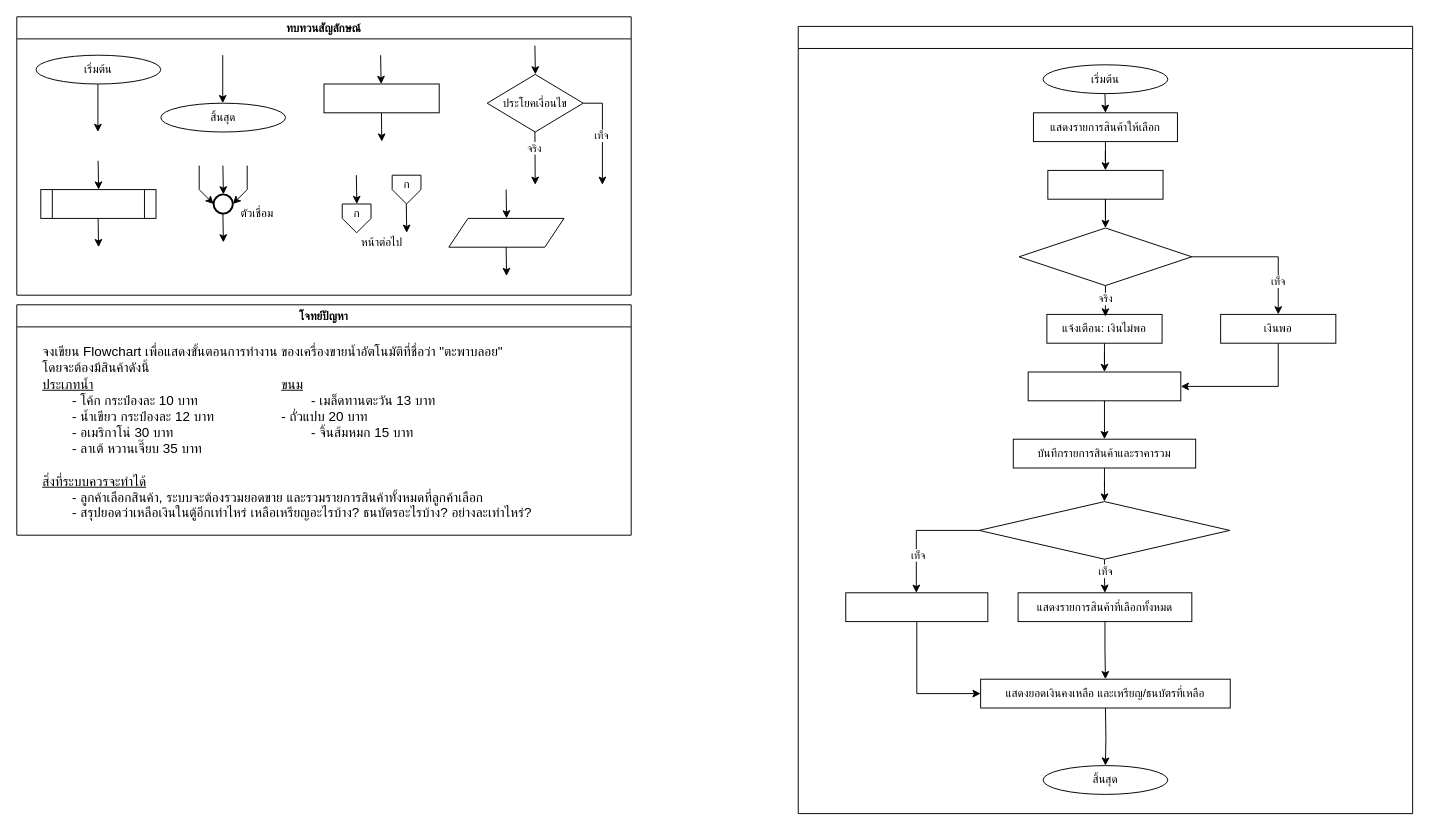
This 1429x830 diagram has some shape labels left out. Each missing label, with the centre of its shape:
"กระบวนการ" goes at pixel 381 98.
"กลับไปแสดงรายการสินค้า" goes at pixel 916 607.
"ข้อมูลที่เลือก" goes at pixel 1105 184.
"คำนวณเงินตามราคาสินค้า" goes at pixel 1104 386.
"ตรวจสอบว่าเงินพอหรือไม่" goes at pixel 1105 256.
"ฟังก์ชัน/โมดูล" goes at pixel 98 203.
"ลูกค้าต้องการเลือกสินค้าเพิ่มหรือไม่?" goes at pixel 1104 530.
"แสดงผล/รับค่า" goes at pixel 506 232.
